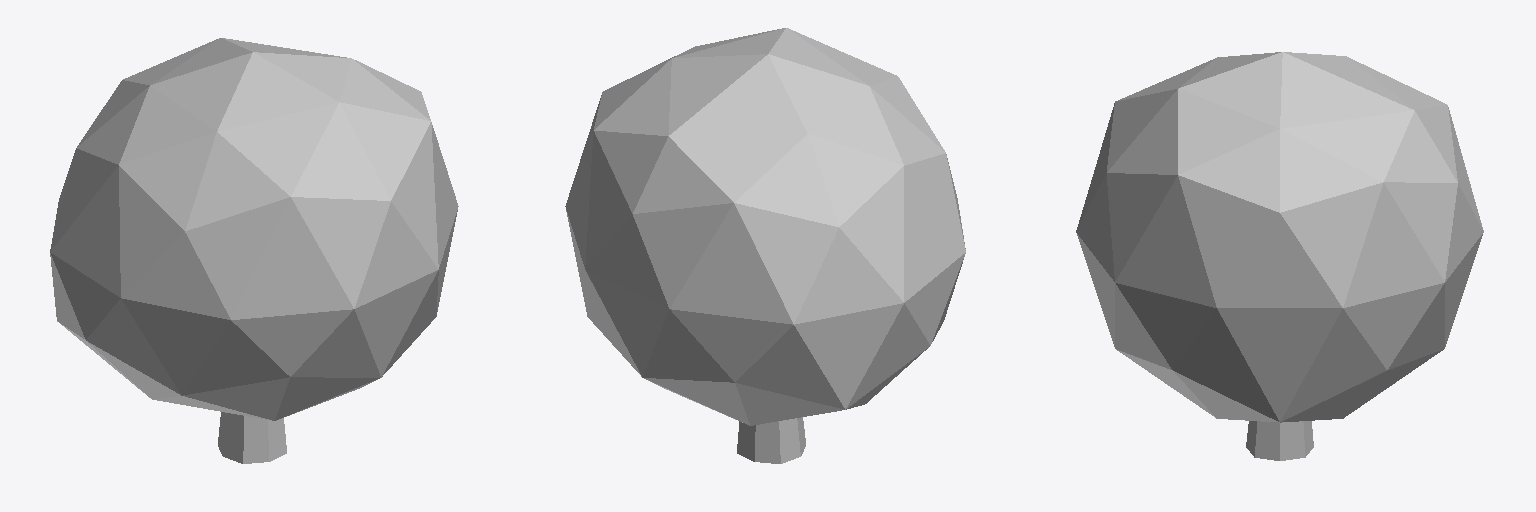
The model's file is bush2.obj.
3 views of the same model, side by side, from view 1: azimuth 30°, elevation 25°; view 2: azimuth 150°, elevation 25°; view 3: azimuth 270°, elevation 25° (orthographic).
Visible parts, largest first — view 1: stalk_Cube.001; view 2: stalk_Cube.001; view 3: stalk_Cube.001.
Boxes of the visible parts, <box> form: stalk_Cube.001: <box>50,38,458,463</box>; stalk_Cube.001: <box>565,28,965,463</box>; stalk_Cube.001: <box>1076,52,1483,460</box>.
Size of the model in its own units: 0.5813 by 0.6599 by 0.6.